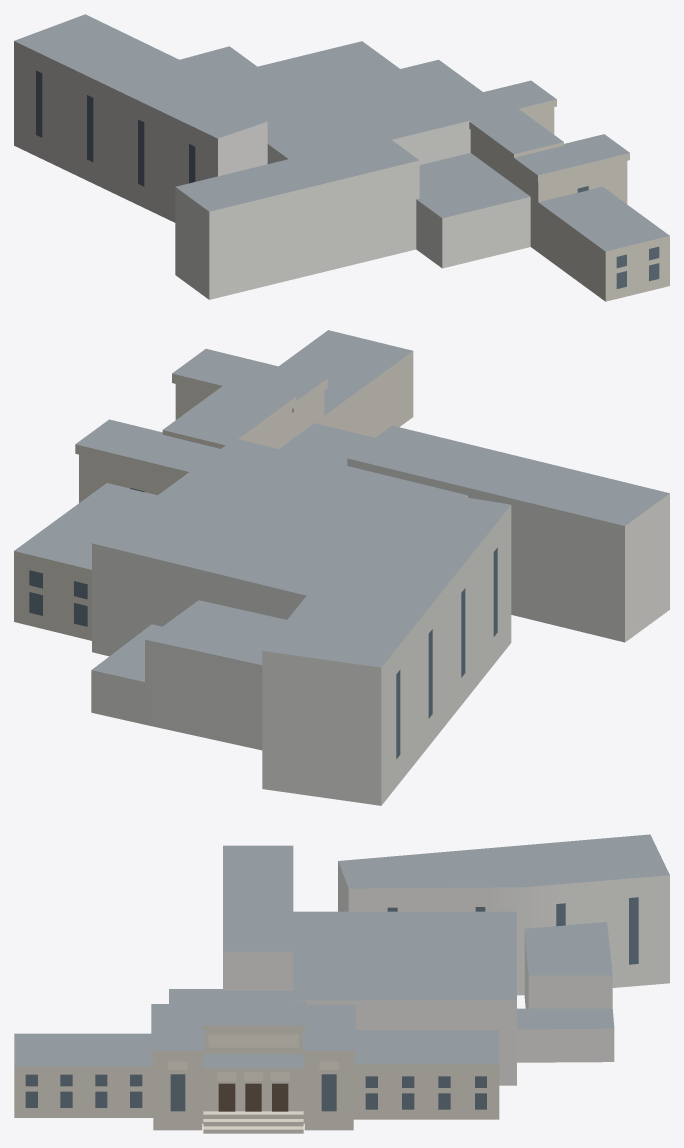
File: mia-bass-museum.glb
3 renders of one model, top to bottom at view 1: azimuth 30°, elevation 25°; view 2: azimuth 150°, elevation 25°; view 3: azimuth 270°, elevation 25°, orthographic. The views are drawn at different scales.
Parts seen in each view (by area): view 1: The Bass; view 2: The Bass; view 3: The Bass.
Boxes of the visible parts, x1,y1,x2,y2 form: The Bass: [14, 14, 669, 301]; The Bass: [14, 330, 669, 805]; The Bass: [14, 834, 669, 1133].
Size of the model in its own units: 57 by 14.6 by 80.26.
